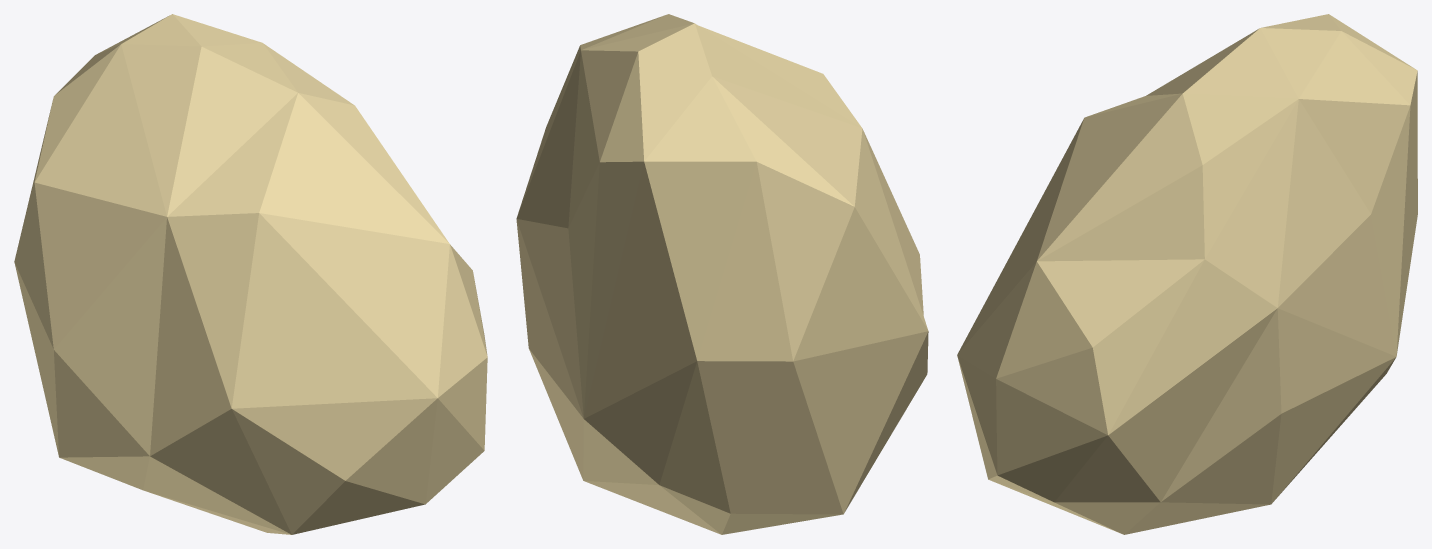
File: Rock (11).fbx
The picture shows the model from 3 angles, left to right: view 1: azimuth 30°, elevation 25°; view 2: azimuth 150°, elevation 25°; view 3: azimuth 270°, elevation 25°; orthographic projection. The views are drawn at different scales.
Visible parts, largest first — view 1: Asteroid10; view 2: Asteroid10; view 3: Asteroid10.
Part boxes in pixels (x1=…): Asteroid10: x1=14, y1=14, x2=487, y2=534; Asteroid10: x1=516, y1=14, x2=928, y2=534; Asteroid10: x1=957, y1=14, x2=1417, y2=534.
Bounding box in the file's own units: 199 × 221 × 197.
